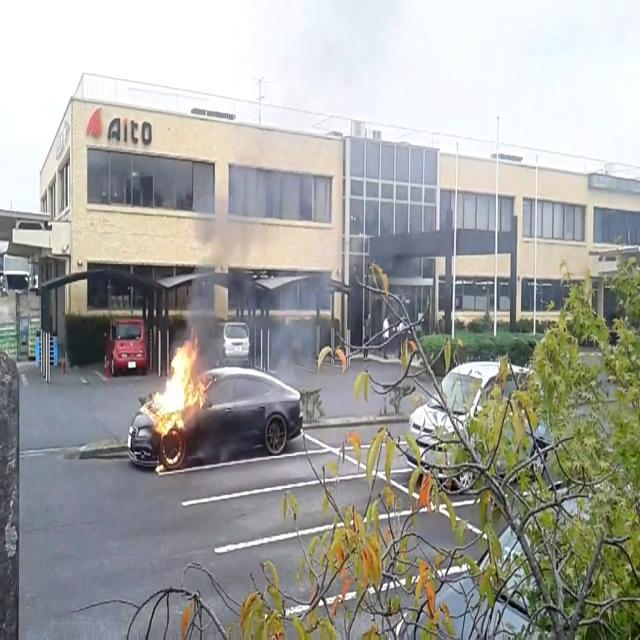Fire: (141, 333, 207, 439)
Smoke: (186, 188, 246, 362)
